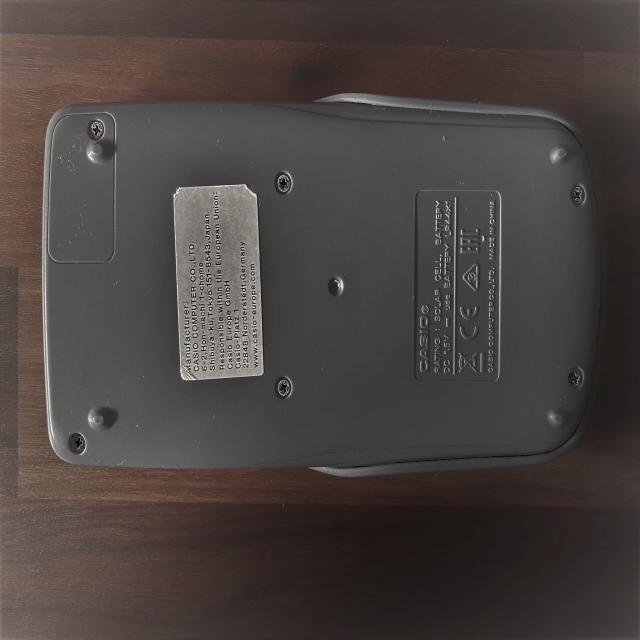PhillipsScrewHead: (70, 432, 87, 454), (276, 378, 291, 397), (277, 174, 291, 194), (570, 184, 584, 204), (89, 120, 103, 138), (568, 370, 582, 387)
